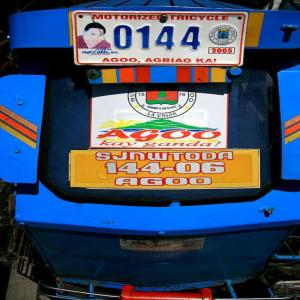Vehicle-registration-plate: (70, 9, 253, 76)
